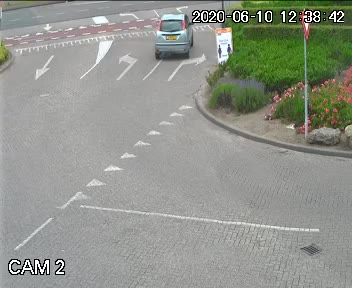car: (153, 9, 193, 62)
